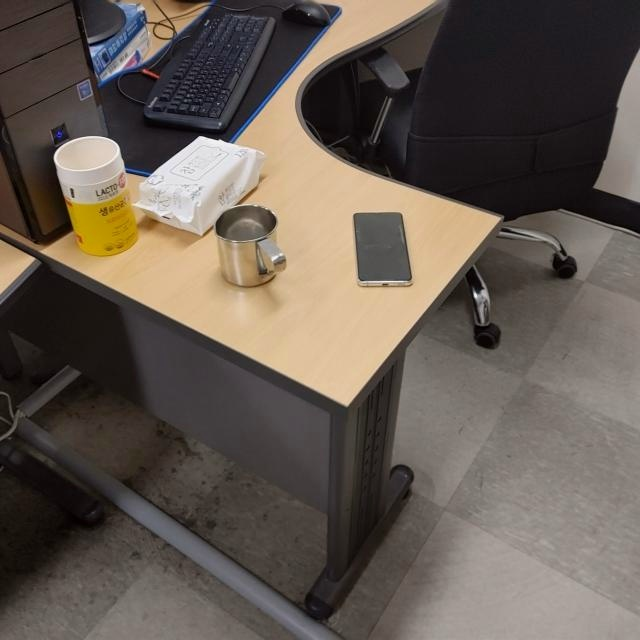cup: (214, 202, 290, 291)
phone: (350, 209, 414, 291)
